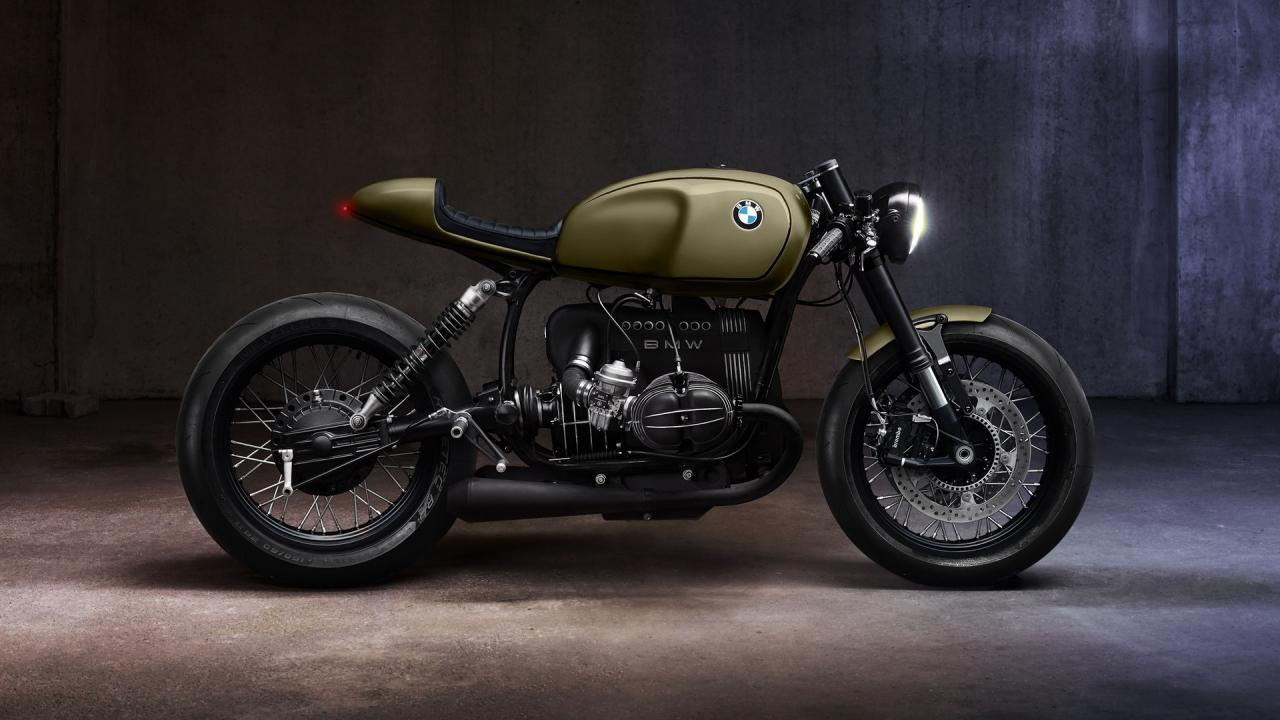motorbike: (170, 144, 1123, 593)
